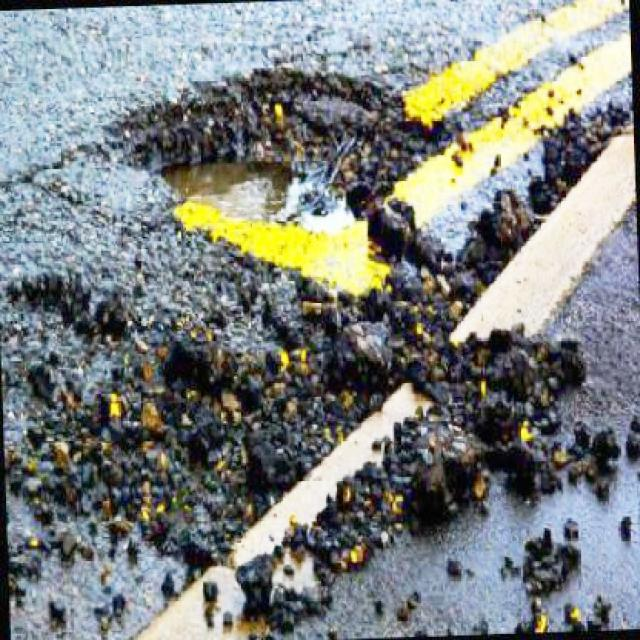pothole: (92, 57, 503, 309)
